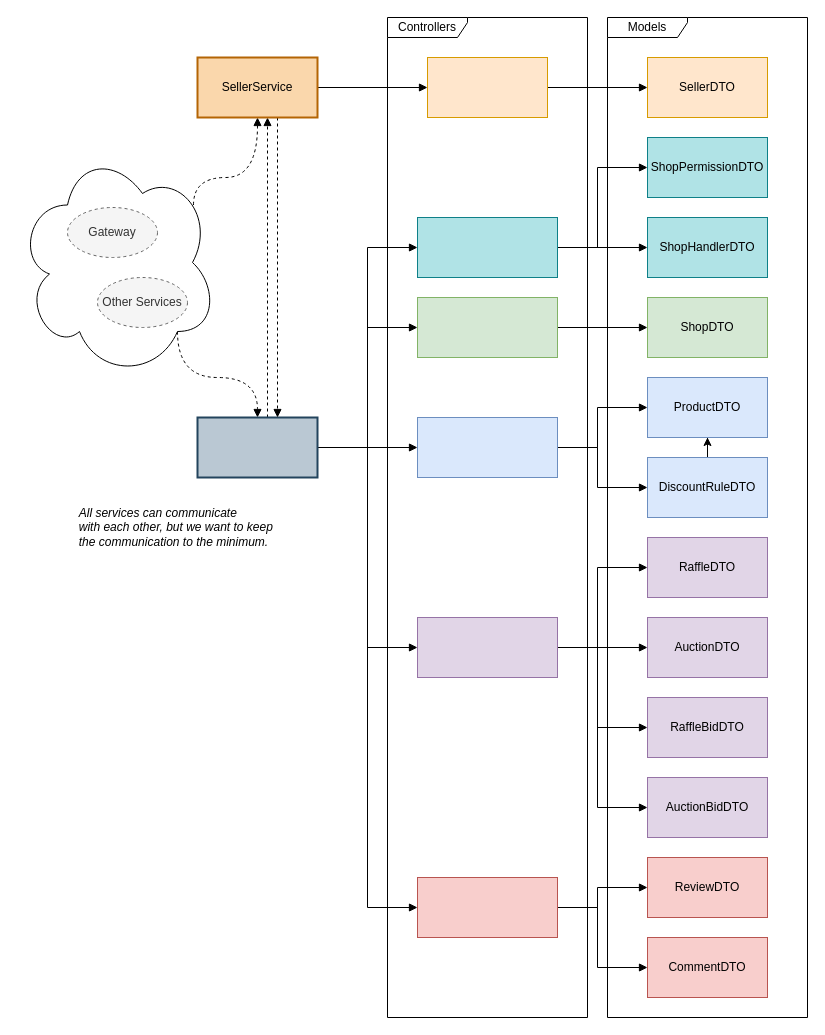
The diagram is 825 pixels wide and 1035 high, and some of its shapes have lost their labels. Each missing label, with the centre of its shape:
"ProductController" belongs at pixel 487 447.
"ReviewController" belongs at pixel 487 907.
"SellerController" belongs at pixel 487 87.
"ShopController" belongs at pixel 487 327.
"ShopHandlerController" belongs at pixel 487 247.
"ShopService" belongs at pixel 257 447.
"SpecialEventsController" belongs at pixel 487 647.
